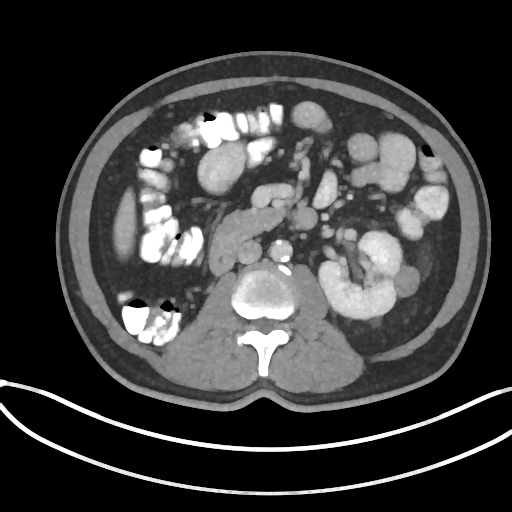Lesion: (391, 261, 421, 298)
